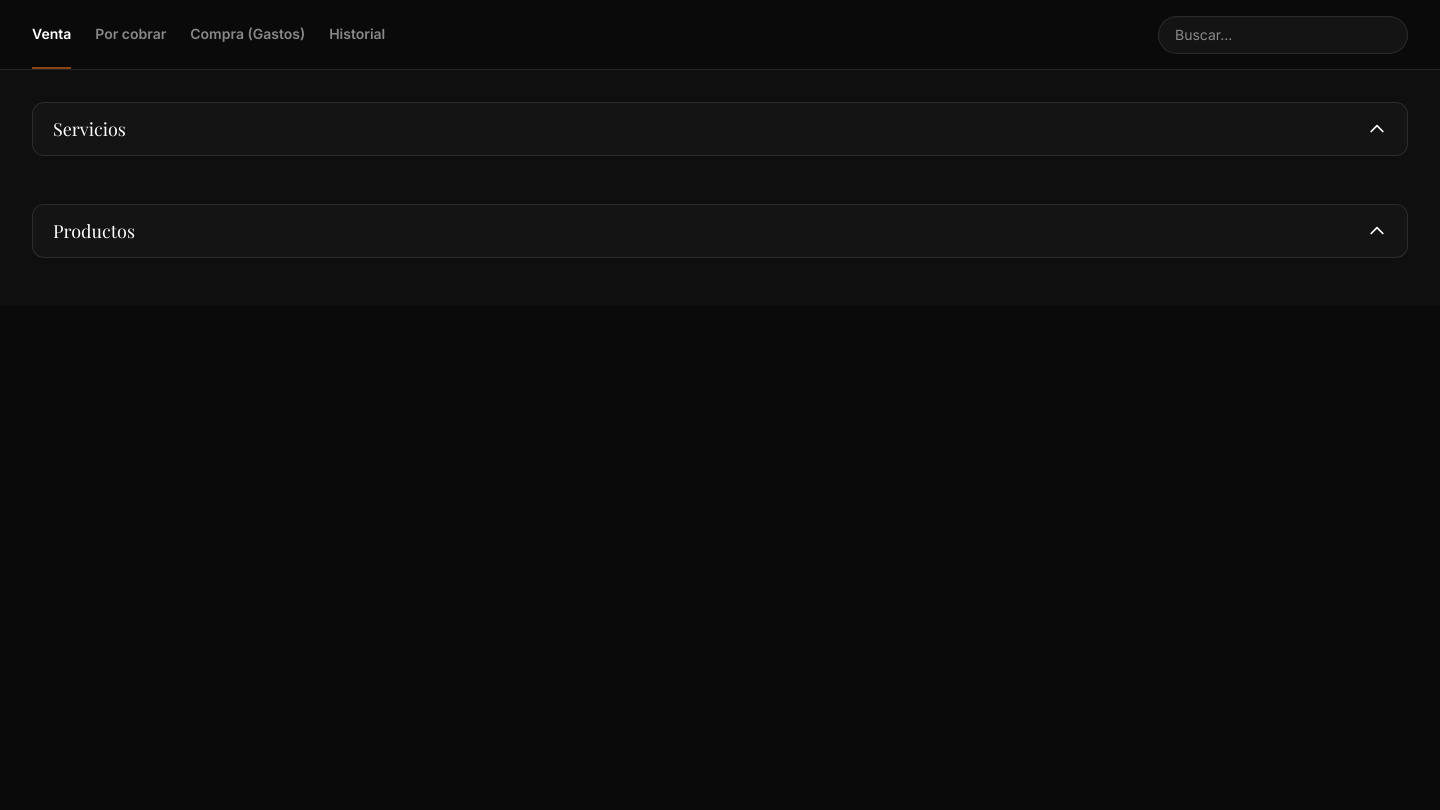
Test: POSManager › presenta el detalle del historial y abre la edición con campos accesibles
Click the button "Historial".
click(357, 34)  # box [329, 0, 385, 68]
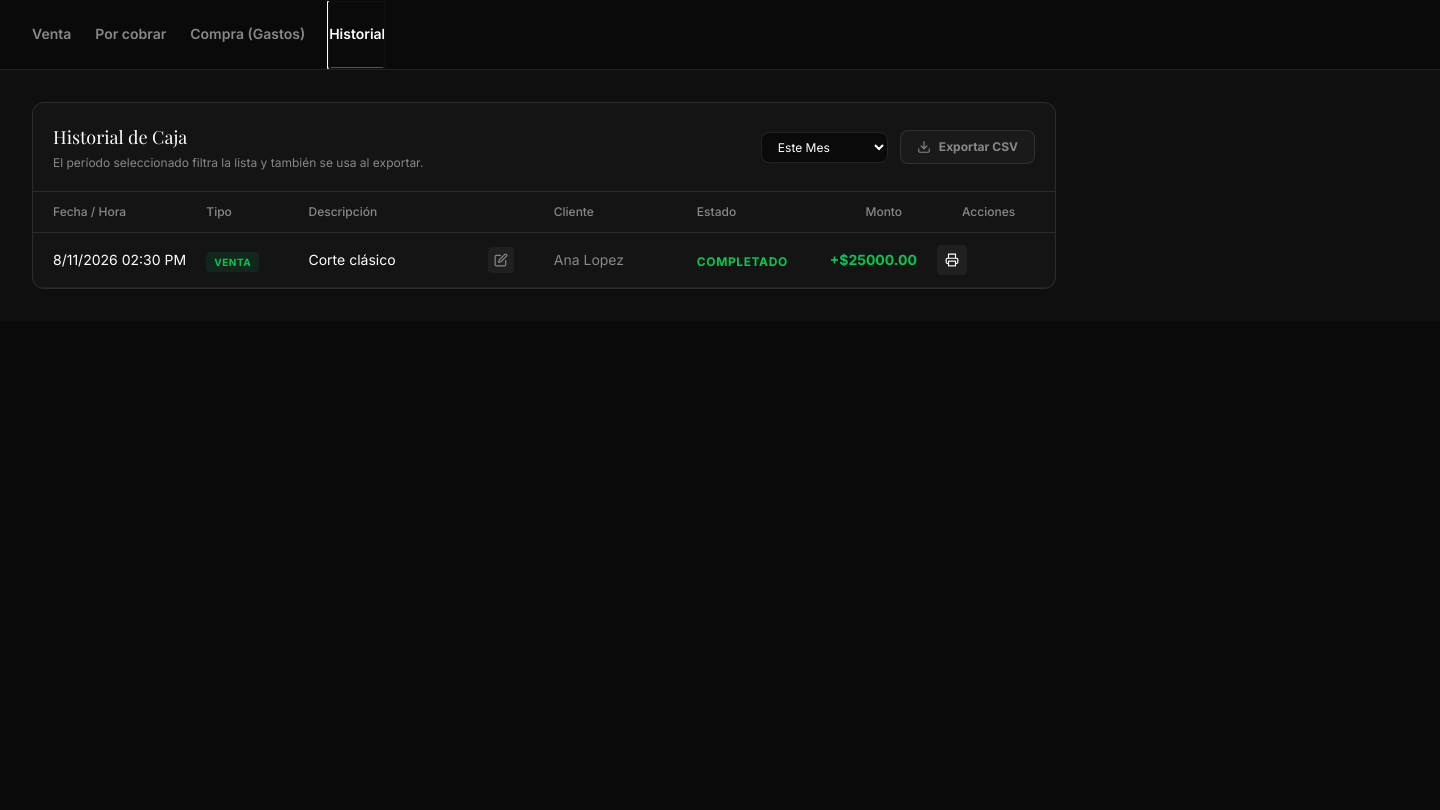
Click the text "Corte clásico".
click(352, 260)  # box [308, 251, 396, 268]
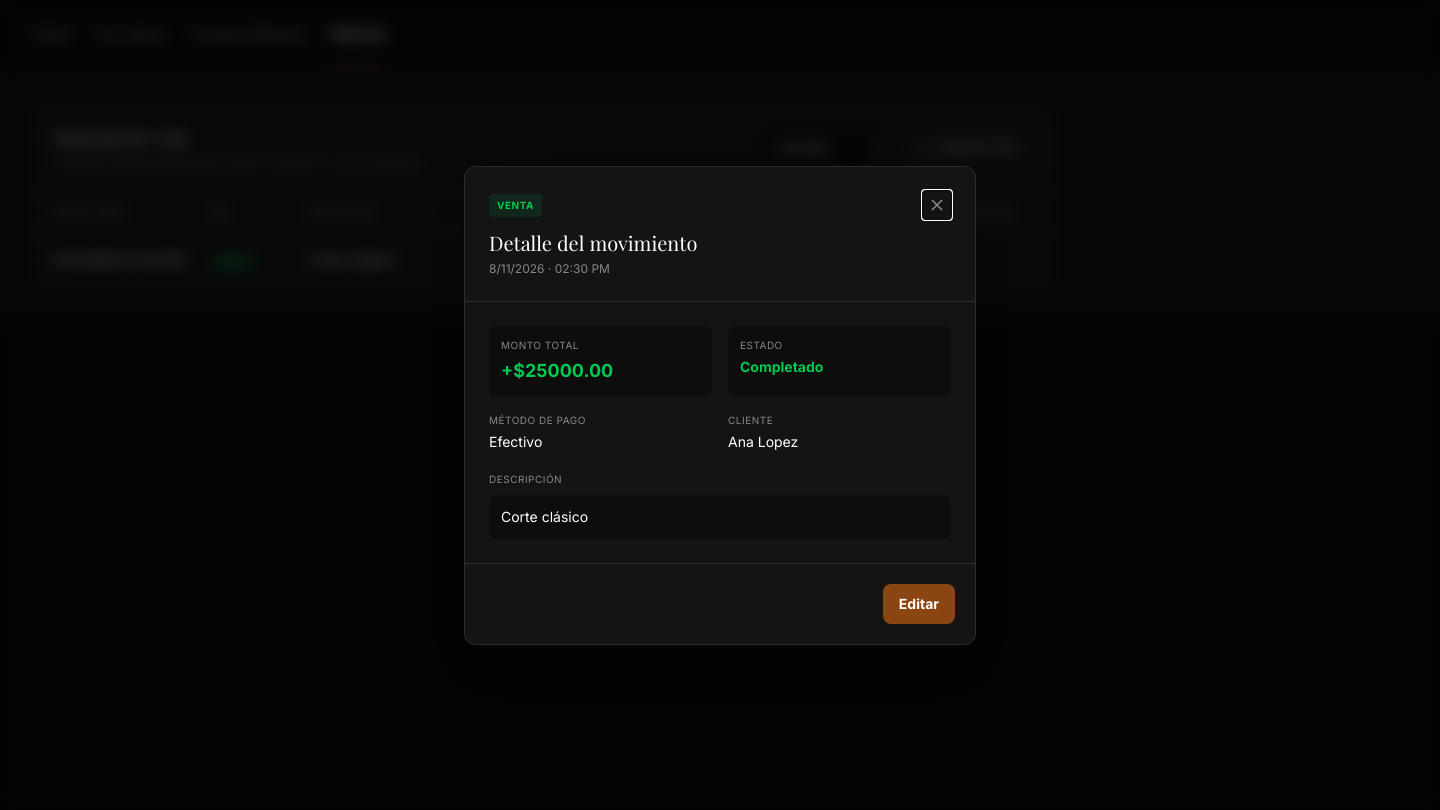
Now the dialog "Detalle del movimiento" shows "Ana Lopez", box [728, 432, 798, 450]
Click the button "Editar".
click(919, 604)  # box [883, 584, 955, 624]
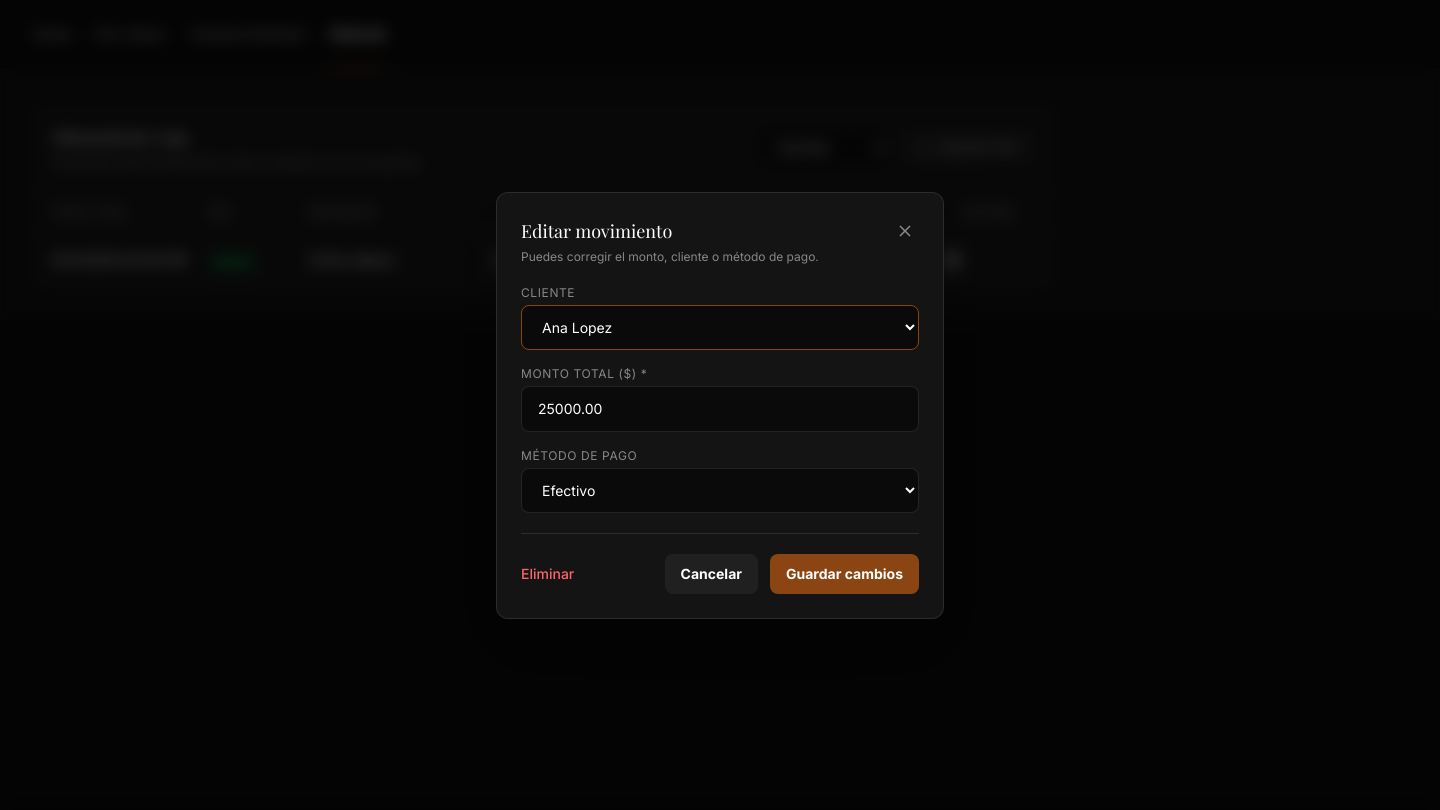
Now the dialog "Editar movimiento" is shown, box [496, 192, 944, 618]
Now the dropdown labelled "Cliente" shows "Ana Lopez", box [521, 304, 919, 350]
Now the number field labelled "Monto total ($) *" holds "25000", box [521, 386, 919, 432]
